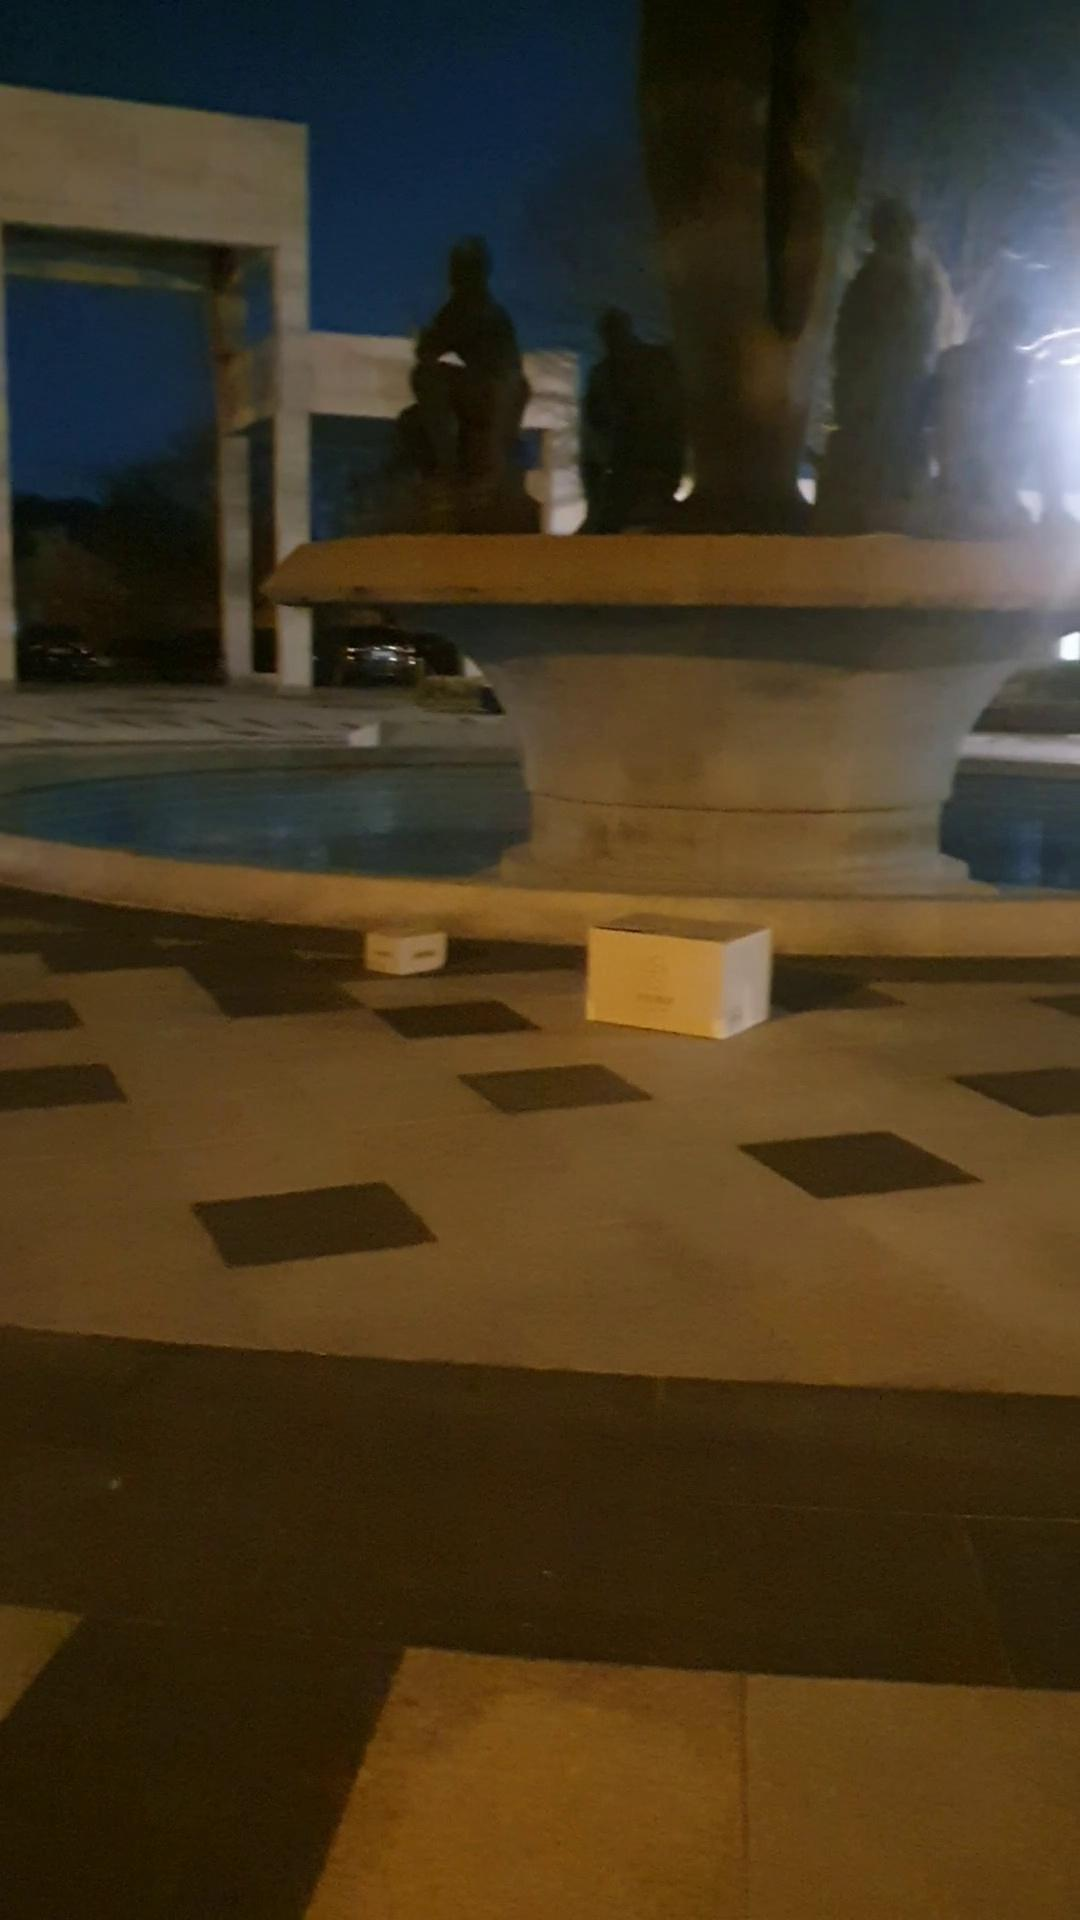Box: (578, 899, 774, 1035), (348, 909, 455, 975)
